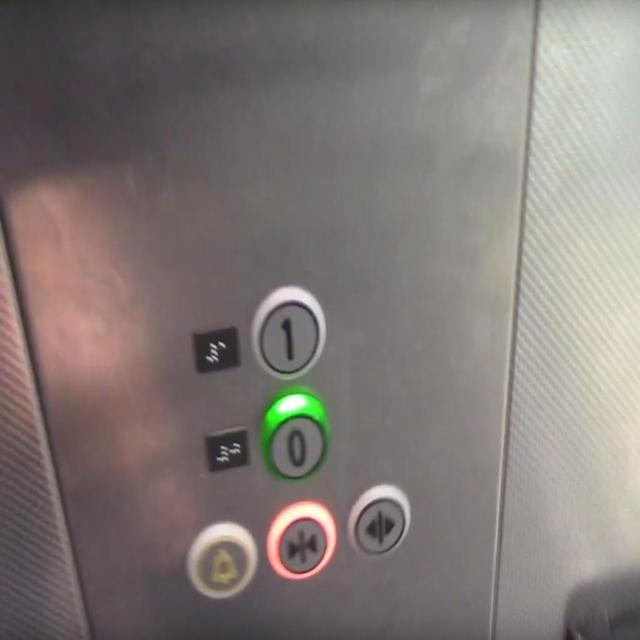0: (257, 389, 329, 484)
1: (249, 284, 325, 382)
alarm: (182, 520, 260, 602)
close: (265, 496, 336, 580)
open: (347, 480, 412, 562)
